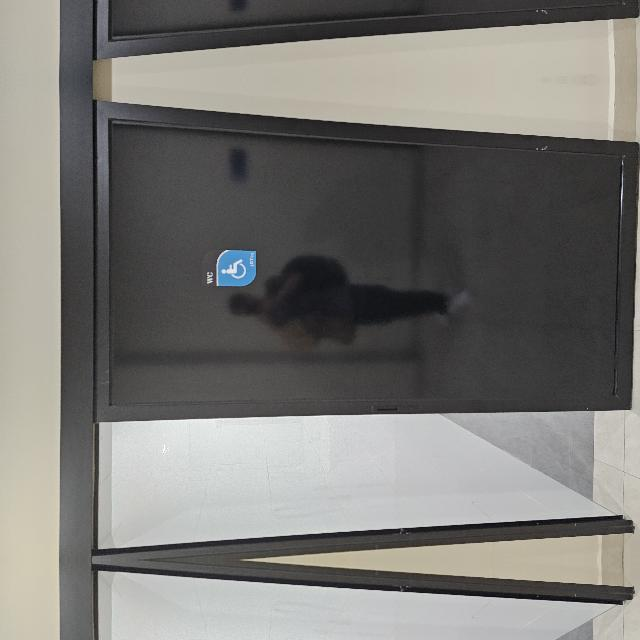door: (0, 138, 480, 640), (0, 402, 480, 640), (0, 0, 480, 21)
